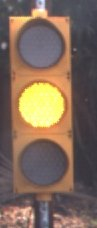Yellow: (6, 11, 79, 206)
